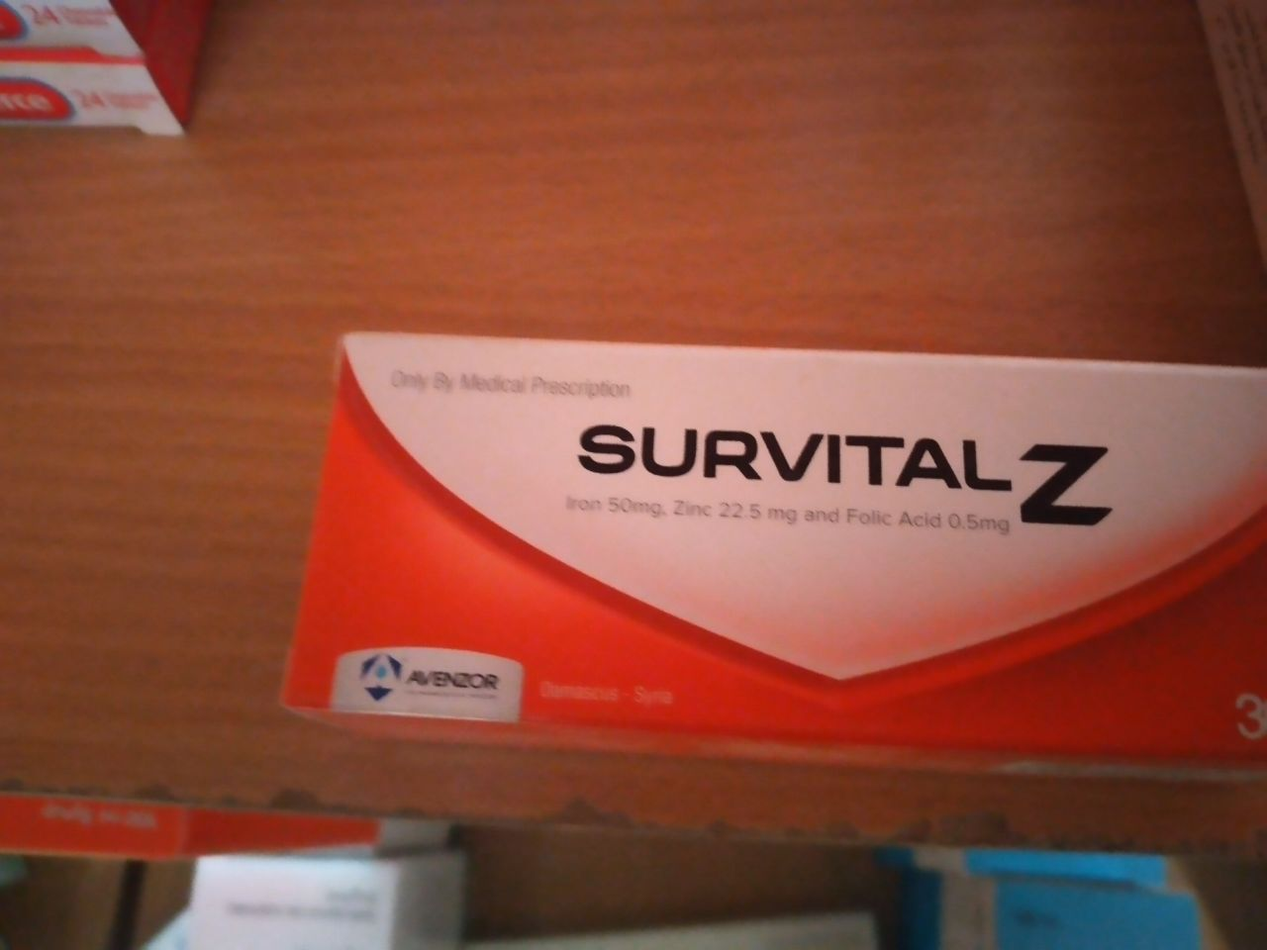Medicine: (265, 312, 1267, 752)
